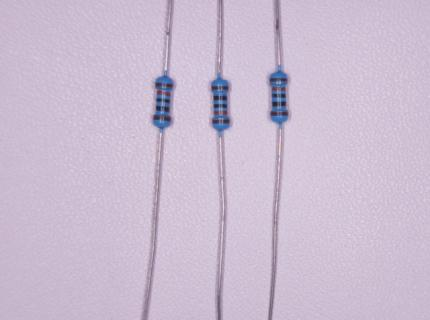Black band: (155, 106, 170, 113), (272, 101, 286, 107), (156, 98, 170, 104), (214, 95, 227, 101), (271, 94, 286, 99), (214, 104, 228, 109)
Brown band: (153, 115, 171, 122), (155, 83, 174, 88), (271, 111, 289, 116), (269, 78, 288, 82), (211, 86, 229, 90), (212, 120, 230, 124)
Orange band: (156, 91, 171, 97), (214, 111, 228, 115), (272, 87, 286, 91)
